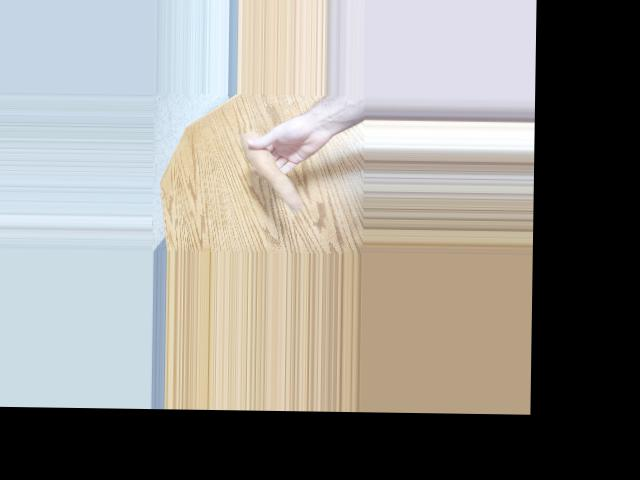sweet_potato: (243, 132, 305, 211)
